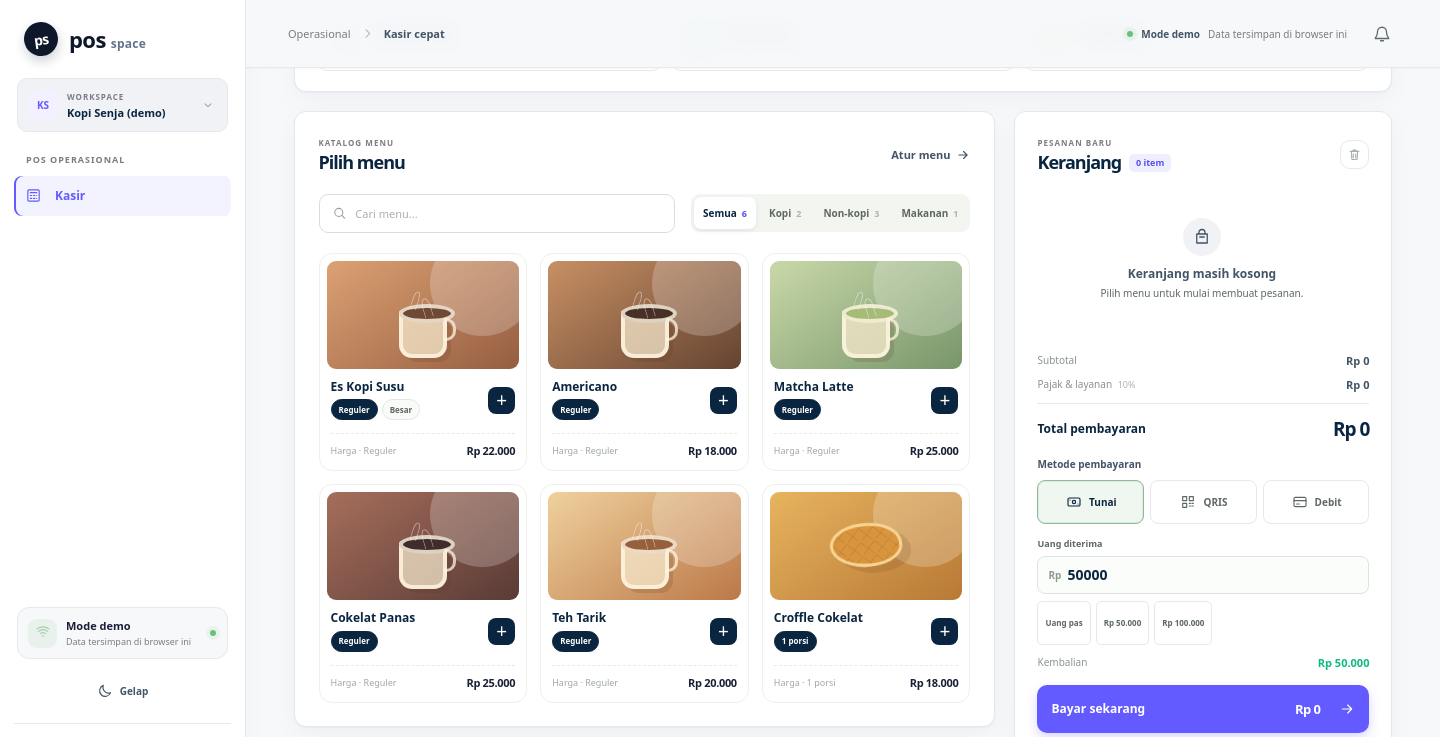
Test case: Kasir cepat (alur POS via /demo) › ubah jumlah item di keranjang
The image size is (1440, 737).
(page scrolled)
Click the button "+" next to "Americano": {"x": 724, "y": 401} [710, 387, 737, 414]
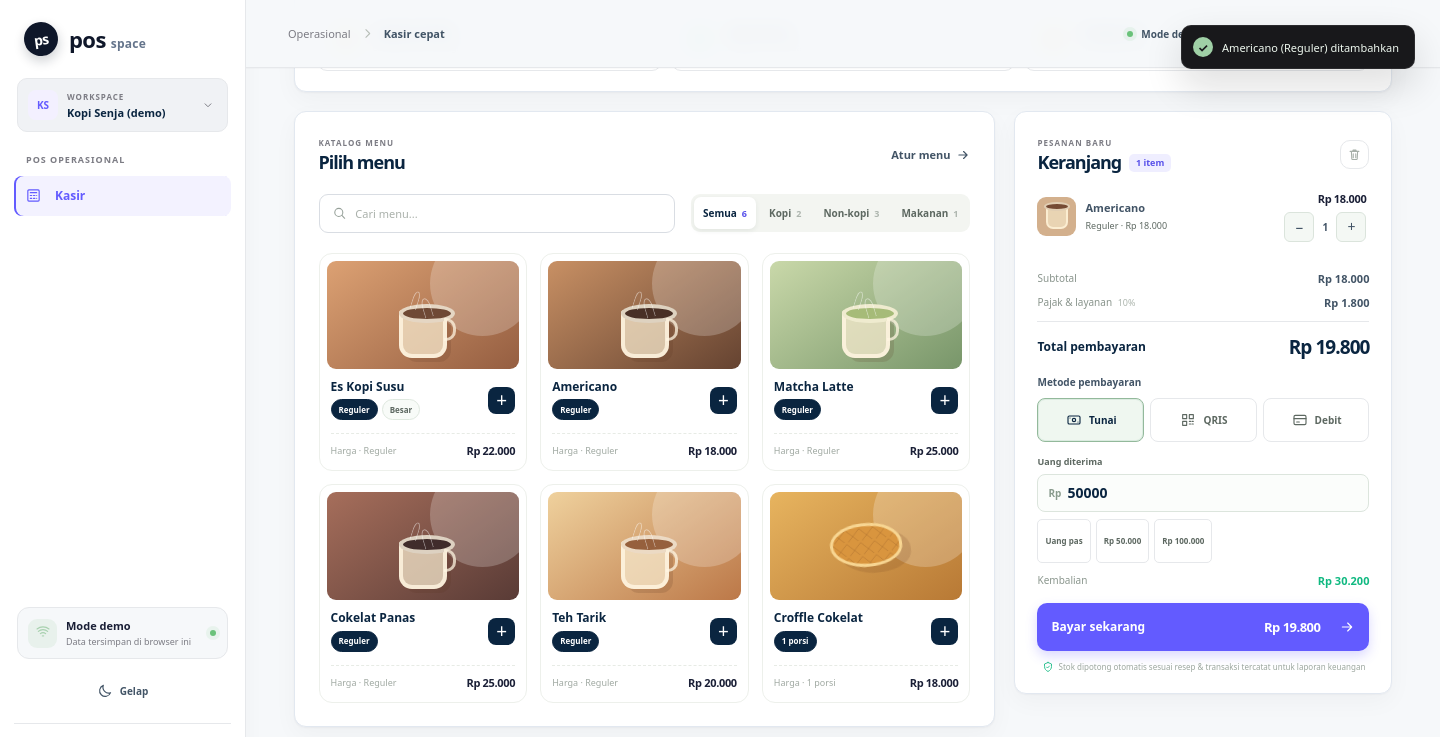
Click the button named "Tambah Americano": {"x": 1352, "y": 227} [1337, 212, 1367, 242]
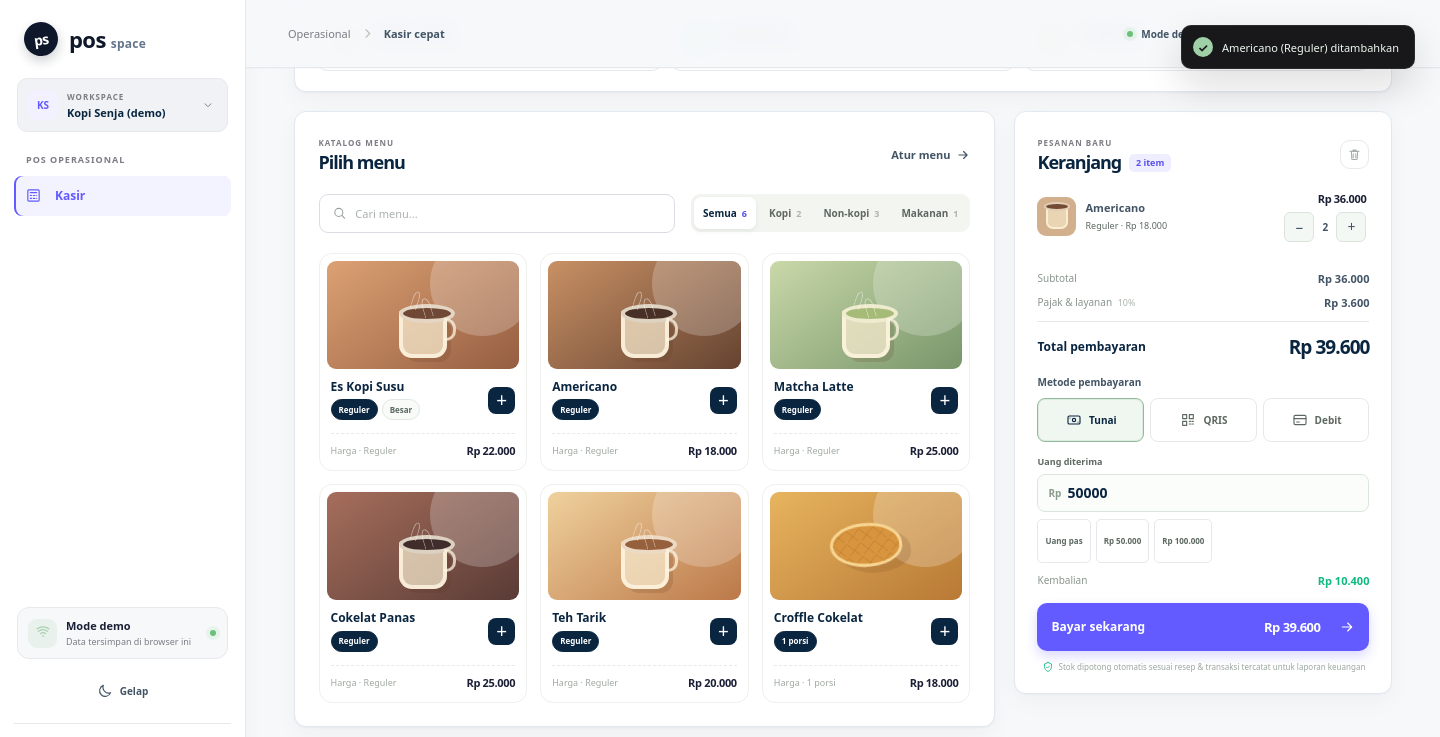
Click the button named "Tambah Americano": {"x": 1352, "y": 227} [1337, 212, 1367, 242]
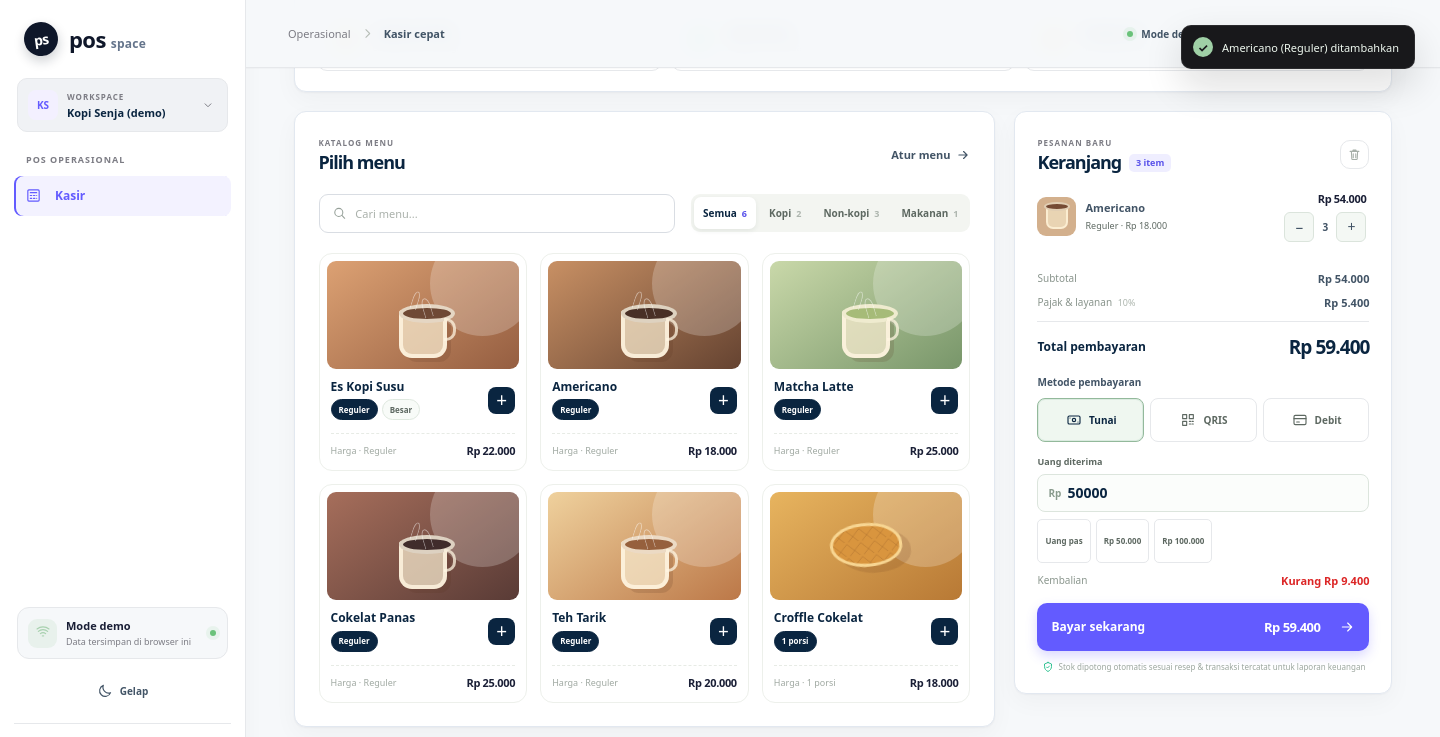
Expected: the text "Keranjang" reads "3 item", [1136, 156, 1164, 169]
Expected: the text "3" next to "Reguler · Rp 18.000" is shown, [1323, 220, 1329, 234]
Click the button named "Kurangi Americano": {"x": 1300, "y": 227} [1285, 212, 1315, 242]
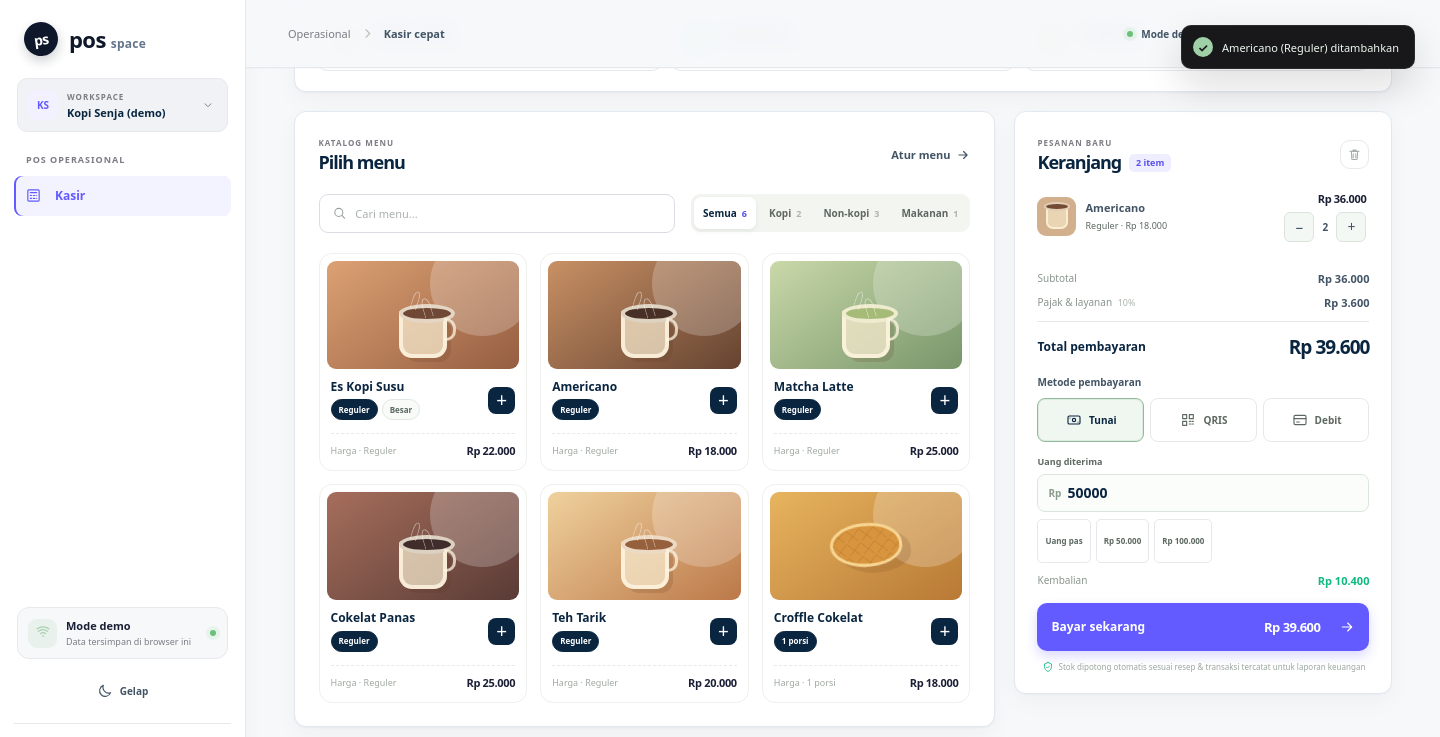
Expected: the text "Keranjang" reads "2 item", [1136, 156, 1164, 169]
Expected: the text "2" next to "Reguler · Rp 18.000" is shown, [1323, 220, 1329, 234]
